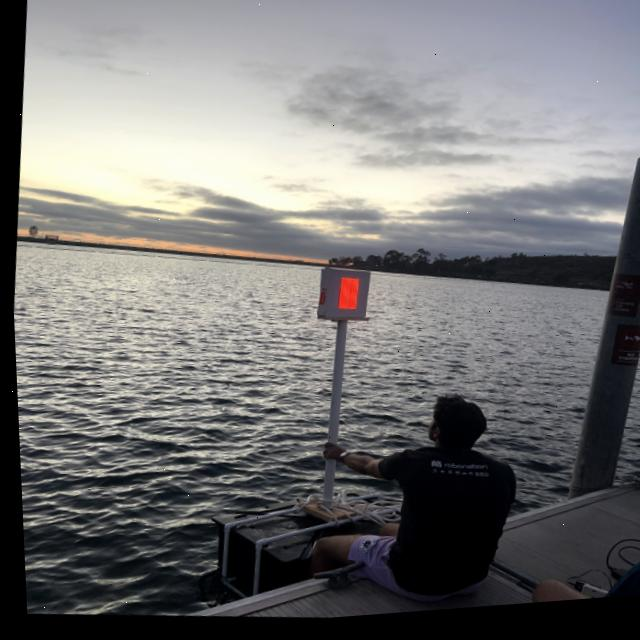led: (314, 270, 369, 327)
